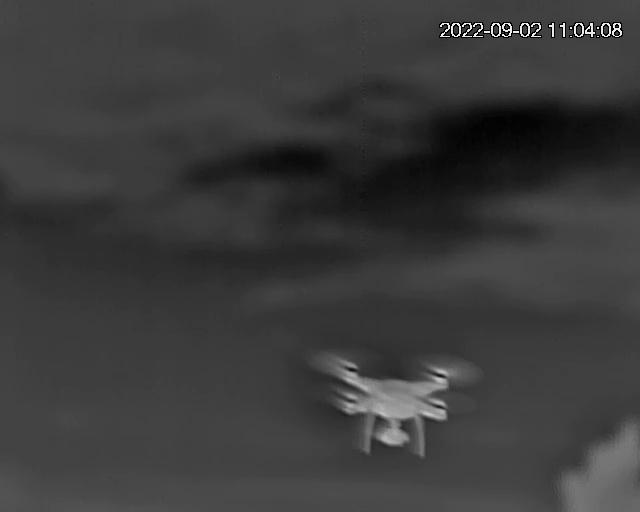DJI-Phantom: (318, 355, 479, 461)
